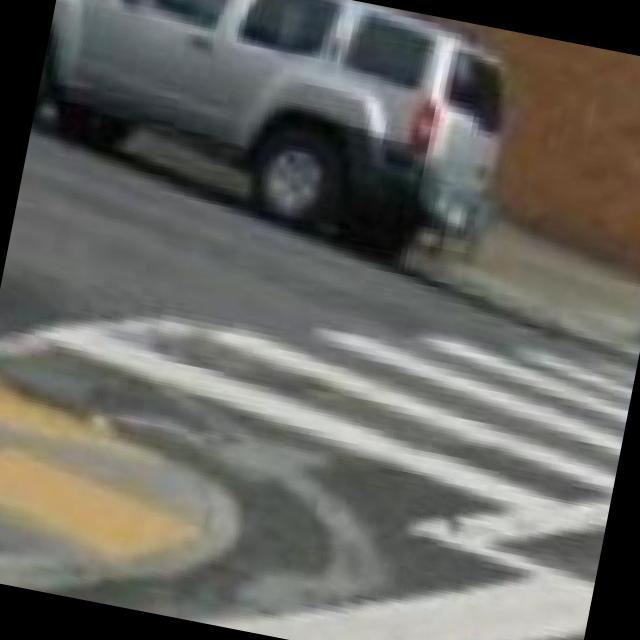zebra: (0, 319, 639, 640)
